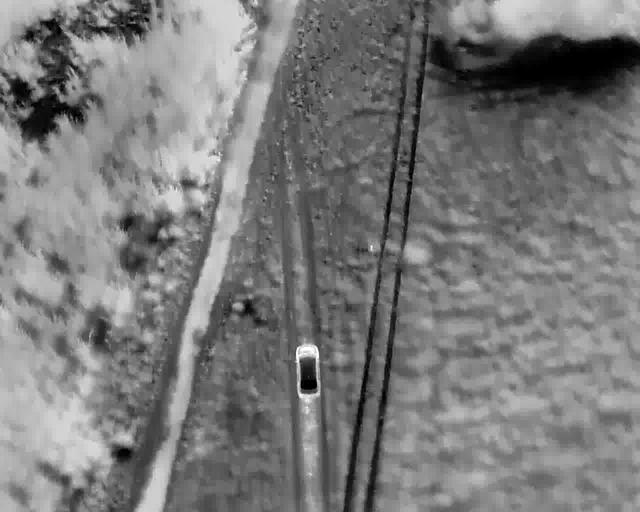car: (294, 344, 321, 399)
